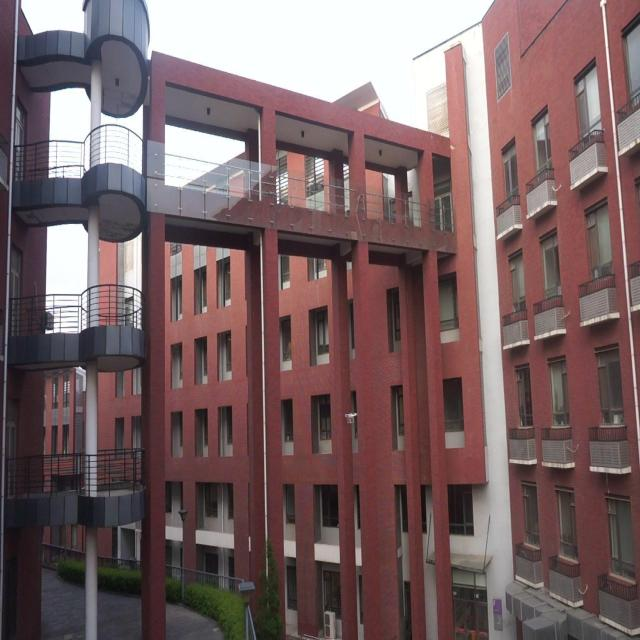drone: (344, 408, 359, 432)
